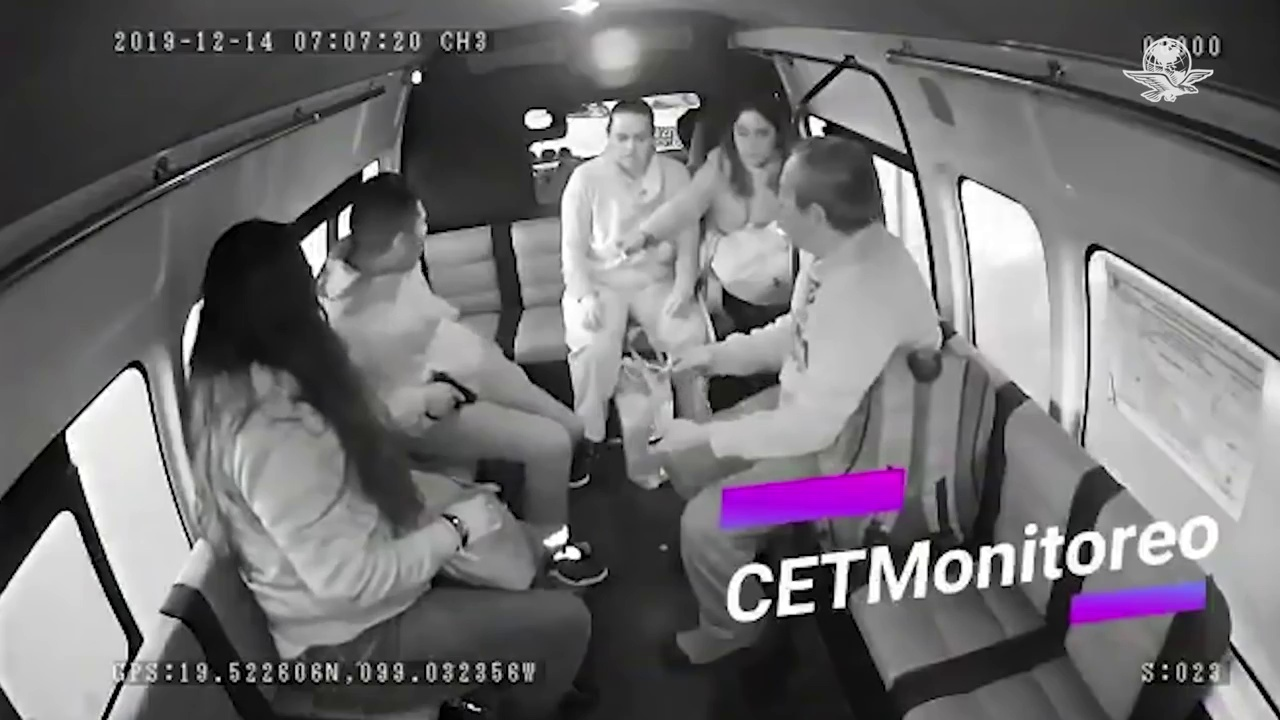pistol: (424, 369, 481, 422)
